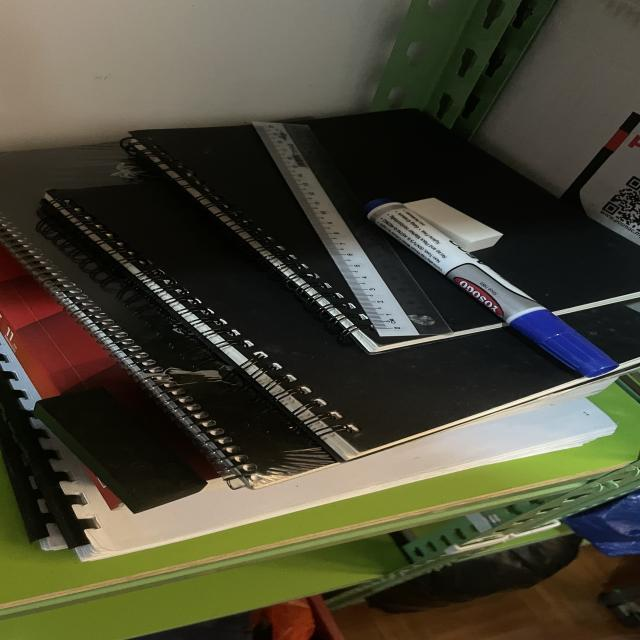eraser: (406, 198, 503, 253)
marker: (368, 199, 617, 377)
ruler: (254, 122, 449, 339)
